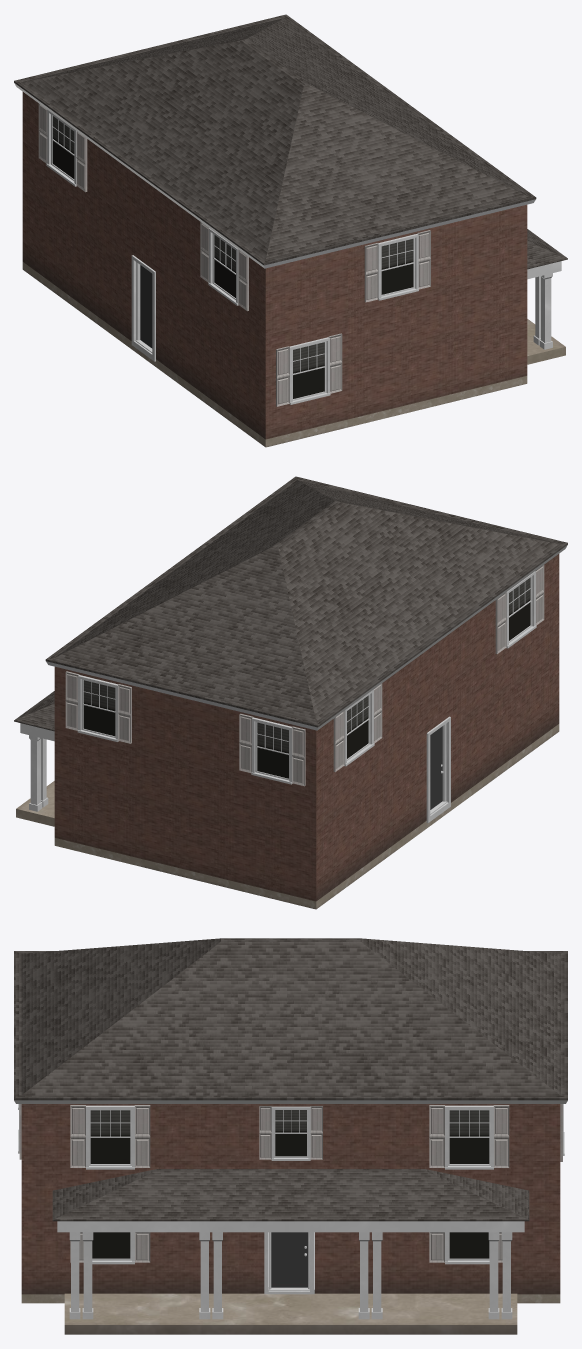
File: house-8.glb
3 renders of one model, top to bottom at view 1: azimuth 30°, elevation 25°; view 2: azimuth 150°, elevation 25°; view 3: azimuth 270°, elevation 25°, orthographic. The views are drawn at different scales.
Visible parts, largest first — view 1: House_8_col_3; view 2: House_8_col_3; view 3: House_8_col_3.
Boxes of the visible parts, left/top/right/bottom form: House_8_col_3: left=14, top=14, right=567, bottom=447; House_8_col_3: left=14, top=476, right=567, bottom=909; House_8_col_3: left=14, top=938, right=567, bottom=1334.
Bounding box in the file's own units: 9.61 × 7.46 × 12.81.
Materials: 1 (1 with a texture image).
